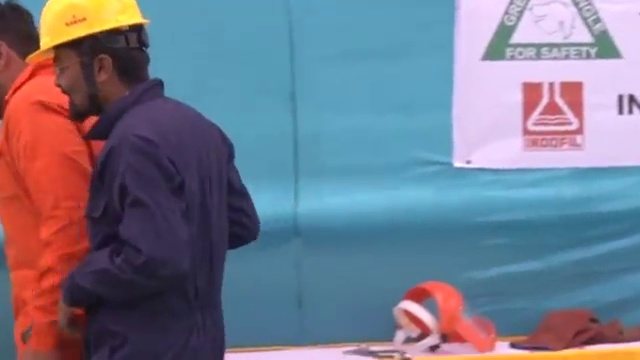helmet: (22, 1, 151, 64)
helmet_on: (23, 1, 166, 124)
person: (22, 1, 260, 360), (1, 2, 94, 356)
